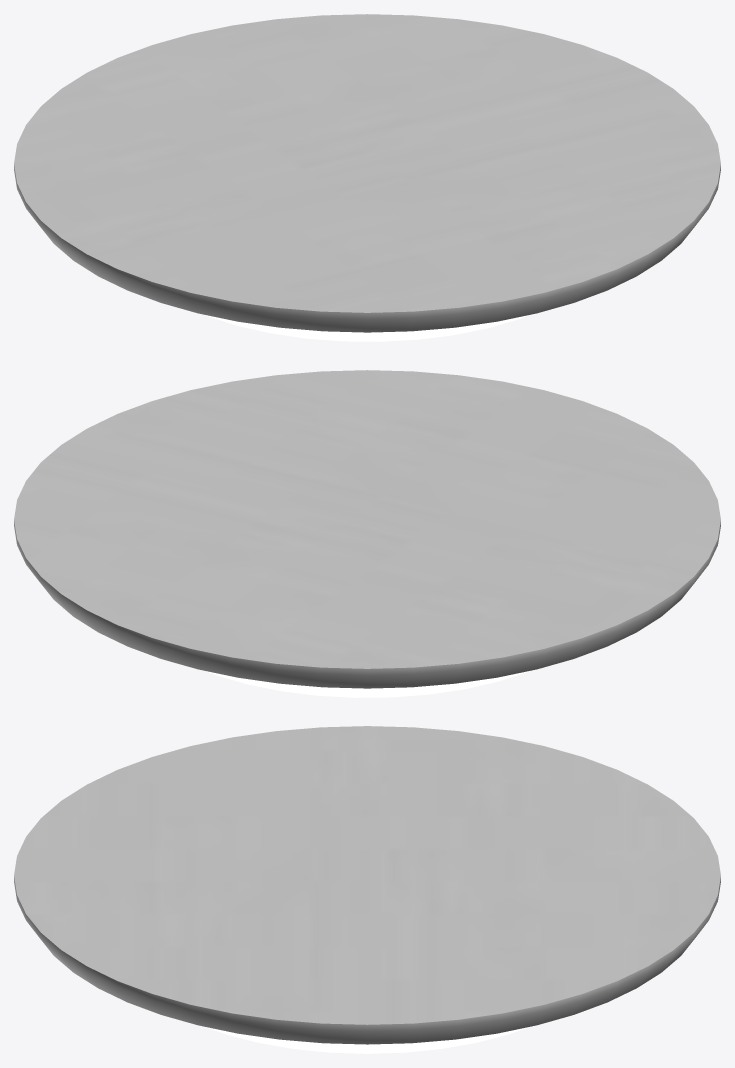
Rendered from recsl3PRnUX8GrNw0.glb.
3 renders of one model, top to bottom at view 1: azimuth 30°, elevation 25°; view 2: azimuth 150°, elevation 25°; view 3: azimuth 270°, elevation 25°, orthographic.
Visible parts, largest first — view 1: plafonnier_salle_de_bain_Corps; view 2: plafonnier_salle_de_bain_Corps; view 3: plafonnier_salle_de_bain_Corps.
Part boxes in pixels (<box>): plafonnier_salle_de_bain_Corps: <box>14,14,720,341</box>; plafonnier_salle_de_bain_Corps: <box>14,370,720,697</box>; plafonnier_salle_de_bain_Corps: <box>14,726,720,1053</box>.
Size of the model in its own units: 0.1 by 0.012 by 0.1.
2 materials, 1 textured.
